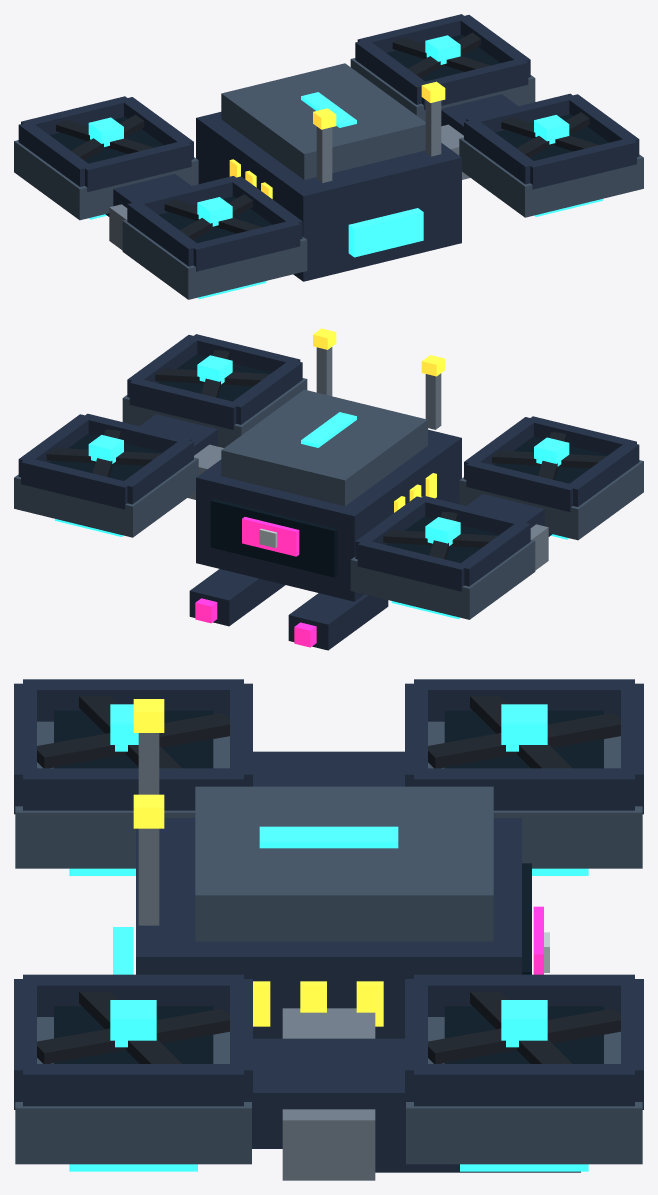
The model's file is drone.glb.
3 renders of one model, top to bottom at view 1: azimuth 30°, elevation 25°; view 2: azimuth 150°, elevation 25°; view 3: azimuth 270°, elevation 25°, orthographic. The views are drawn at different scales.
Visible parts, largest first — view 1: VIGIL SECURITY DRONE; view 2: VIGIL SECURITY DRONE; view 3: VIGIL SECURITY DRONE.
Part boxes in pixels (bbox=[...]): VIGIL SECURITY DRONE: bbox=[14, 14, 643, 299]; VIGIL SECURITY DRONE: bbox=[14, 328, 643, 650]; VIGIL SECURITY DRONE: bbox=[14, 679, 643, 1180].
Size of the model in its own units: 1.84 by 0.7685 by 1.23.
